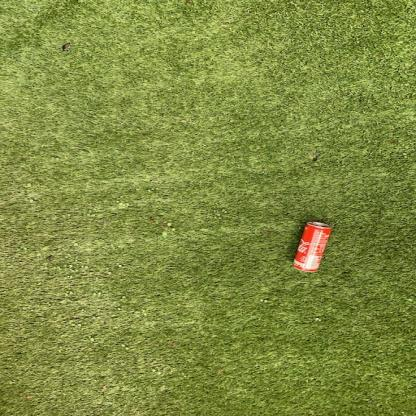trash: (289, 222, 333, 273)
